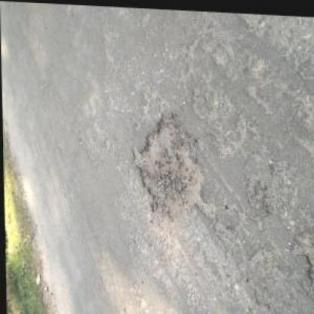Hueco: (129, 107, 206, 229), (290, 222, 313, 294)
